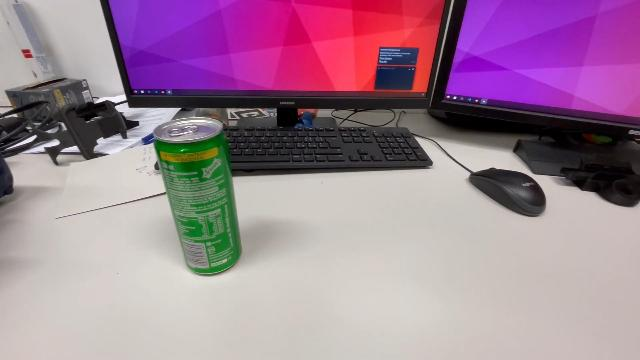Sprite: (150, 117, 246, 280)
